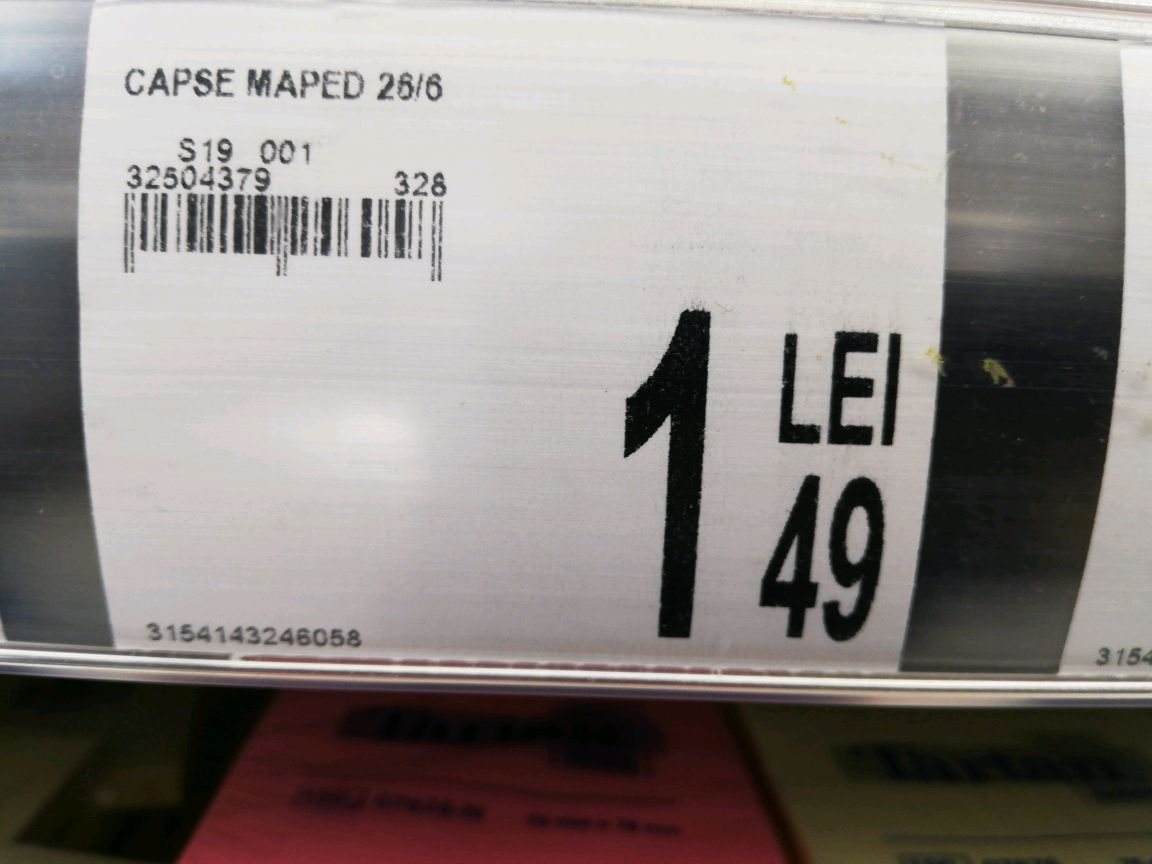price_bani: (742, 460, 903, 670)
price_lei: (605, 294, 726, 664)
price_tag: (79, 3, 957, 686)
product_id: (137, 610, 380, 663)
product_name: (102, 57, 471, 108)
